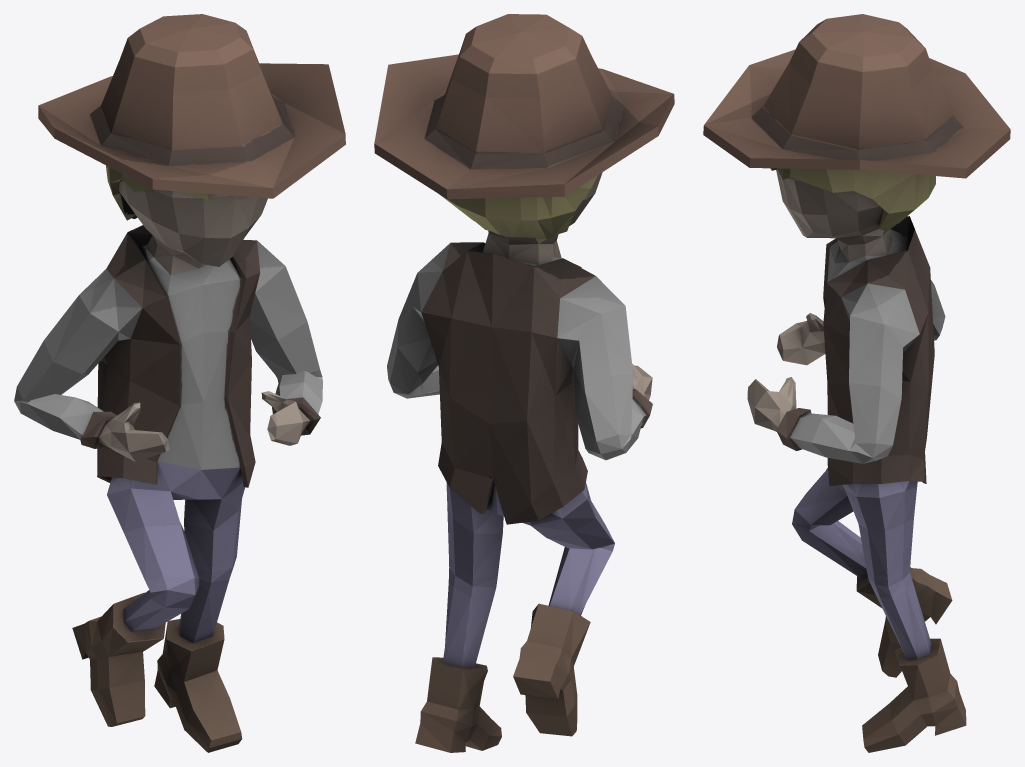
File: char_6.obj
3 views of the same model, side by side, from view 1: azimuth 30°, elevation 25°; view 2: azimuth 150°, elevation 25°; view 3: azimuth 270°, elevation 25° (orthographic). The views are drawn at different scales.
Parts seen in each view (by area): view 1: Cube; view 2: Cube; view 3: Cube.
Boxes of the visible parts, x1,y1,x2,y2 form: Cube: (14,14,345,752); Cube: (374,14,674,752); Cube: (703,14,1010,752).
Bounding box in the file's own units: 3.52 × 8.85 × 3.53.
1 material, 1 textured.
